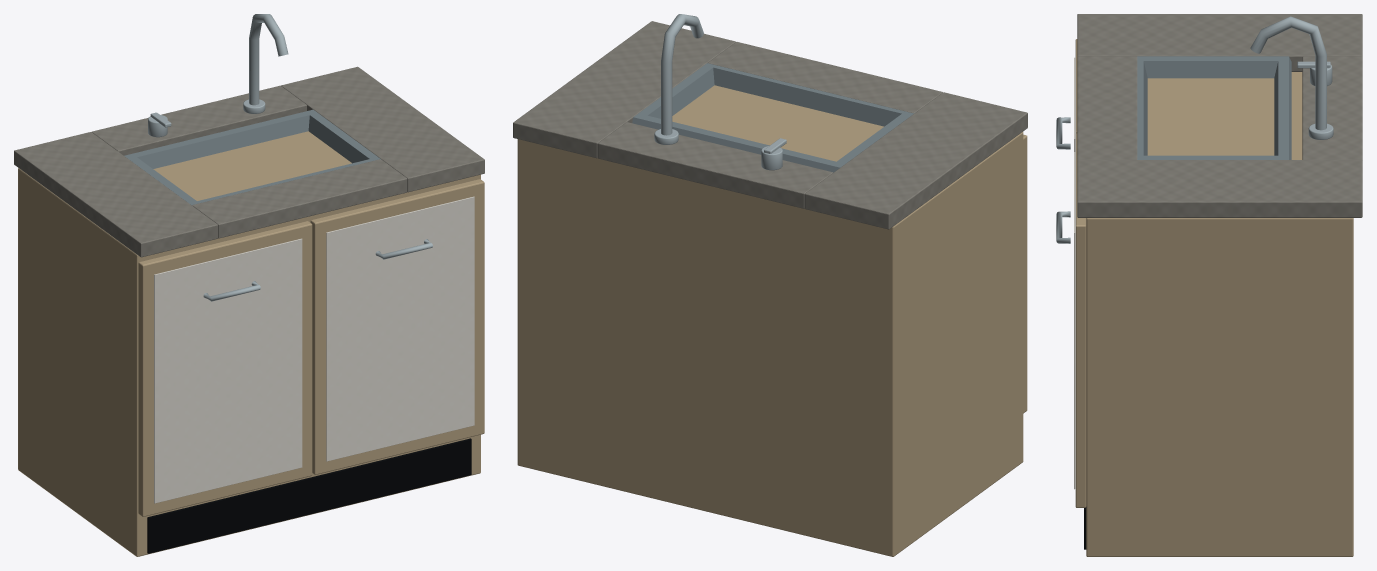
File: OAA_Pantry_SinkCounter_1m.fbx
3 renders of one model, left to right at view 1: azimuth 30°, elevation 25°; view 2: azimuth 150°, elevation 25°; view 3: azimuth 270°, elevation 25°, orthographic. The views are drawn at different scales.
Visible parts, largest first — view 1: Body; view 2: Body; view 3: Body.
Part boxes in pixels (box(x1,y1,x2,y2)): Body: box(14, 14, 484, 556); Body: box(513, 14, 1027, 556); Body: box(1056, 14, 1362, 556).
Bounding box in the file's own units: 1 × 1.17 × 0.6868.
